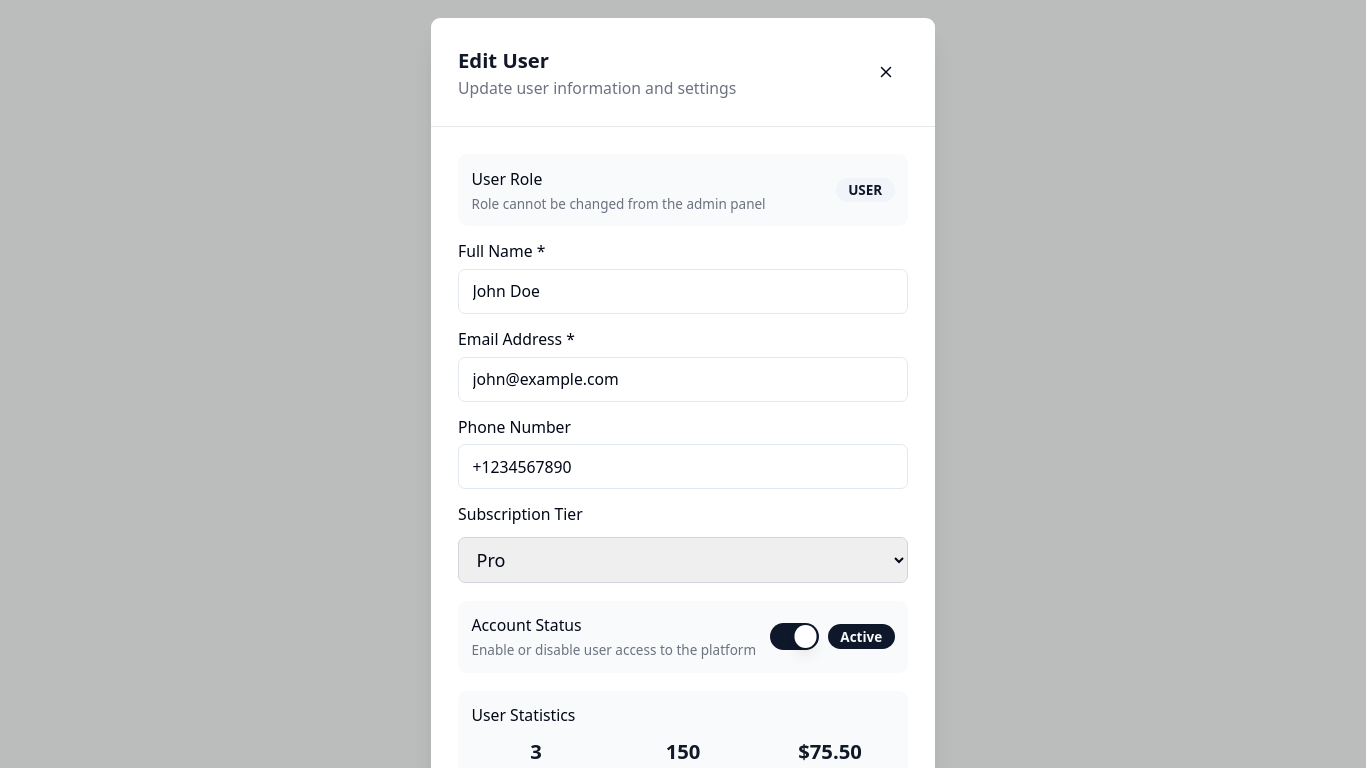
Test: UserEditModal › handles status toggle
The width and height of the screenshot is (1366, 768).
What coordinates should you click on to do the following:
click the switch
I would click on:
 (794, 636)
Its box is [770,623,819,650].
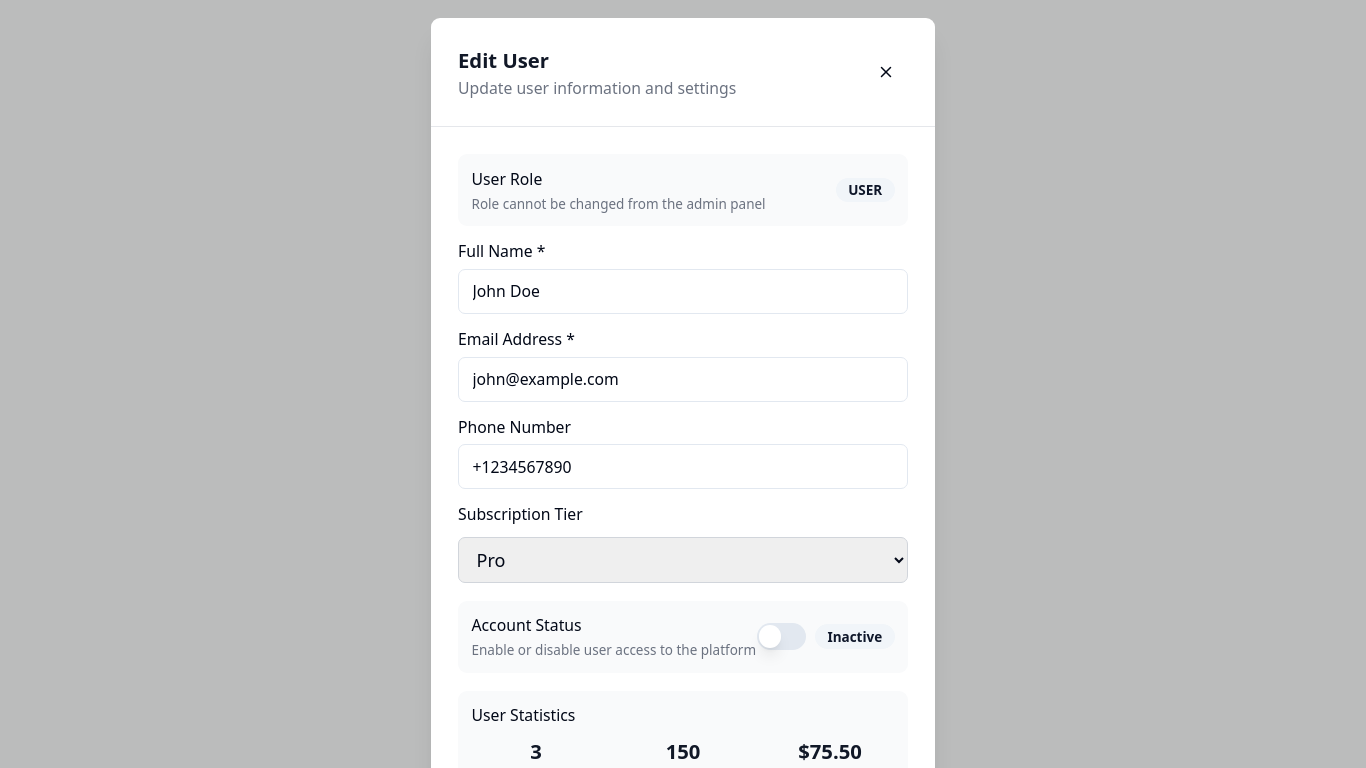
Expected: the switch is not checked, [757,623,806,650]
Expected: the text "Inactive" is shown, [815,624,894,649]
